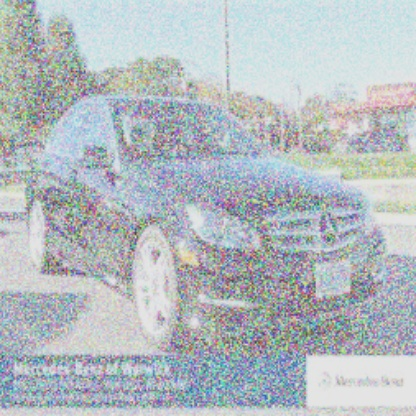Vehicle: (22, 93, 394, 355)
